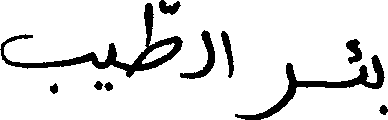ئ: (342, 40, 365, 87)
ا: (220, 28, 233, 78)
ب: (0, 32, 90, 95), (372, 53, 387, 116)
ر: (232, 59, 294, 119)
ط: (131, 0, 181, 78)
ل: (180, 2, 214, 79)
ي: (93, 41, 115, 94)
